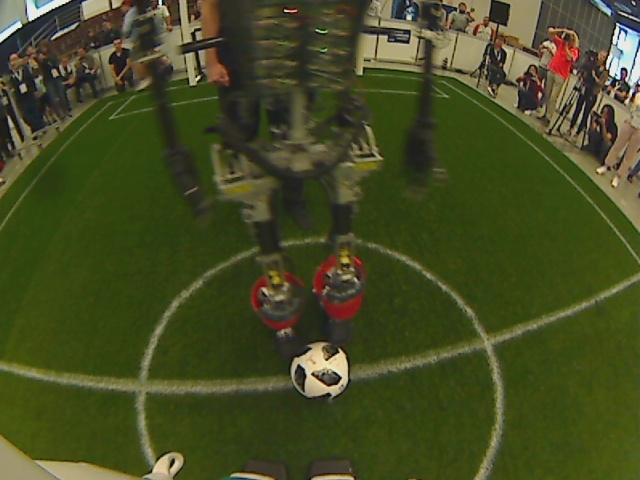ball: (287, 339, 353, 401)
